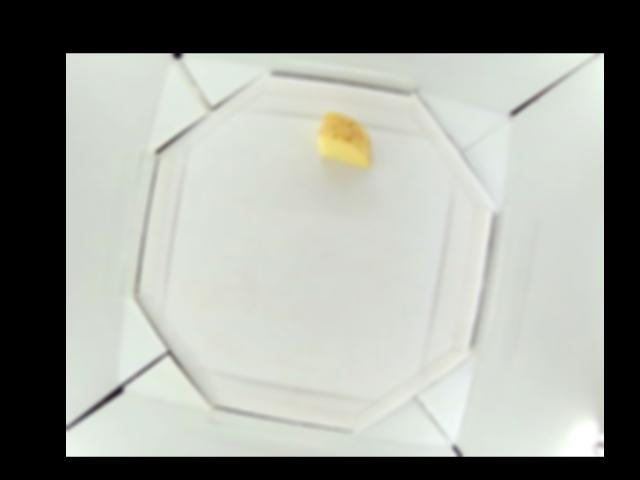Potato: (316, 113, 371, 166)
